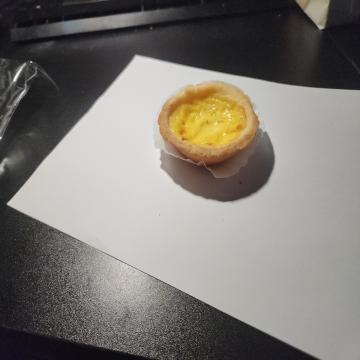EggTart: (158, 80, 259, 166)
